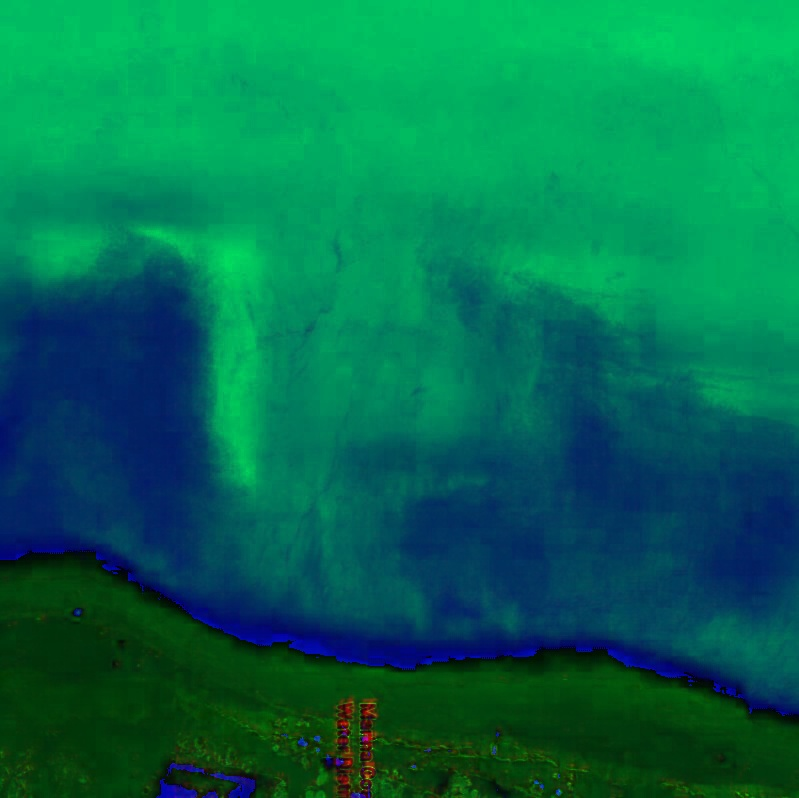rip_current: (183, 190, 491, 585)
